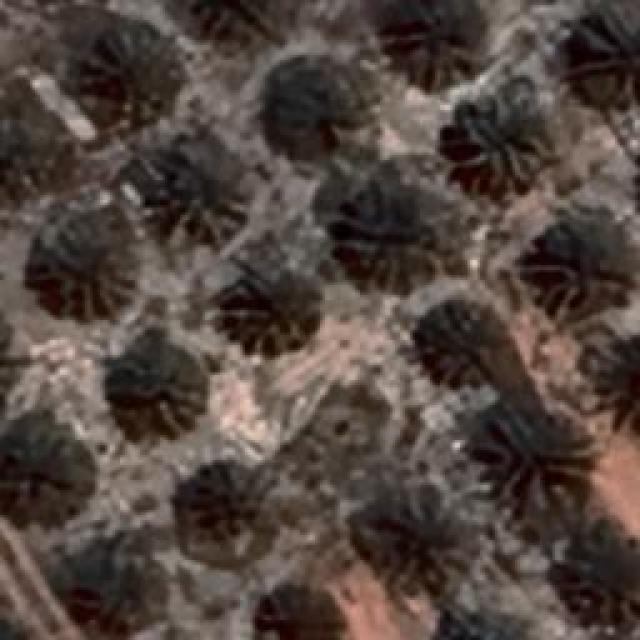PalmTree: (74, 22, 188, 120), (105, 335, 205, 440), (535, 208, 635, 312), (30, 225, 135, 318), (0, 415, 92, 520), (346, 174, 434, 282), (450, 95, 548, 190), (485, 418, 585, 508), (62, 546, 170, 629), (264, 54, 354, 152), (172, 460, 272, 545), (388, 2, 482, 90), (356, 504, 462, 582), (158, 150, 248, 240), (222, 270, 320, 352), (422, 301, 506, 391), (570, 528, 640, 622), (0, 99, 65, 199), (574, 2, 638, 100), (187, 0, 290, 52), (256, 582, 346, 640), (422, 601, 538, 640), (597, 332, 640, 417), (0, 307, 31, 408), (0, 584, 32, 640)
